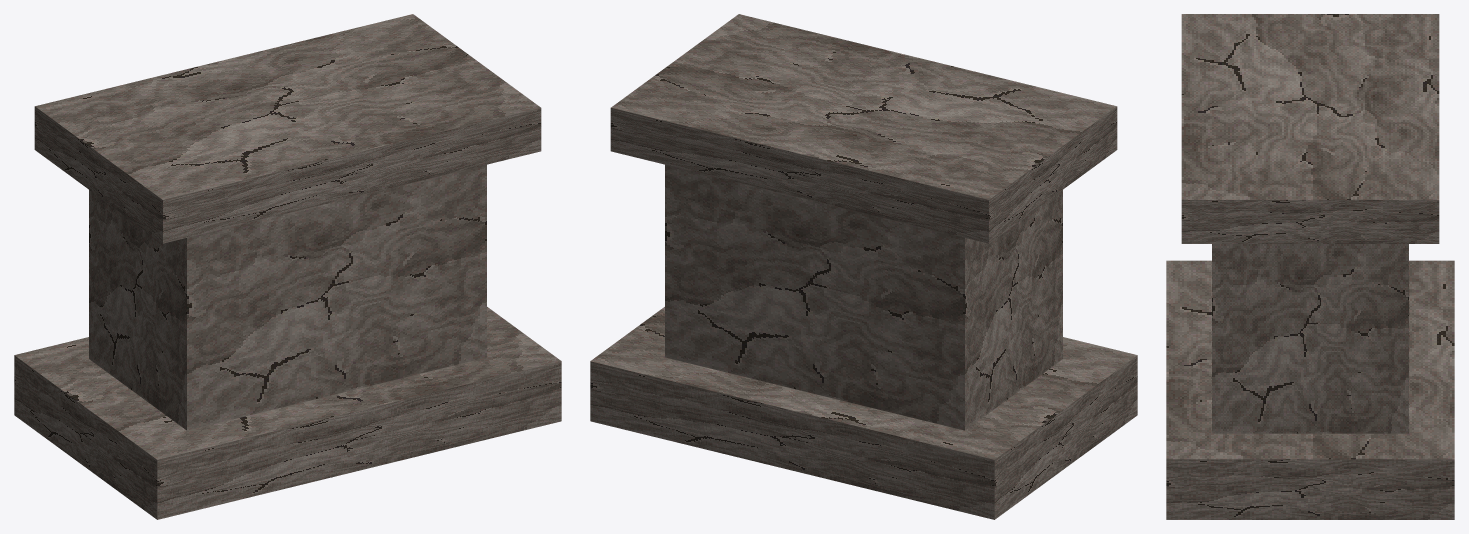
File: mina_altar.glb
3 views of the same model, side by side, from view 1: azimuth 30°, elevation 25°; view 2: azimuth 150°, elevation 25°; view 3: azimuth 270°, elevation 25° (orthographic).
Visible parts, largest first — view 1: mina_altar; view 2: mina_altar; view 3: mina_altar.
Part boxes in pixels (left/top/right/bottom): mina_altar: left=14, top=14, right=561, bottom=519; mina_altar: left=590, top=14, right=1137, bottom=519; mina_altar: left=1166, top=14, right=1454, bottom=519.
Bounding box in the file's own units: 1.55 × 1.14 × 0.95.
Materials: 1 (1 with a texture image).
